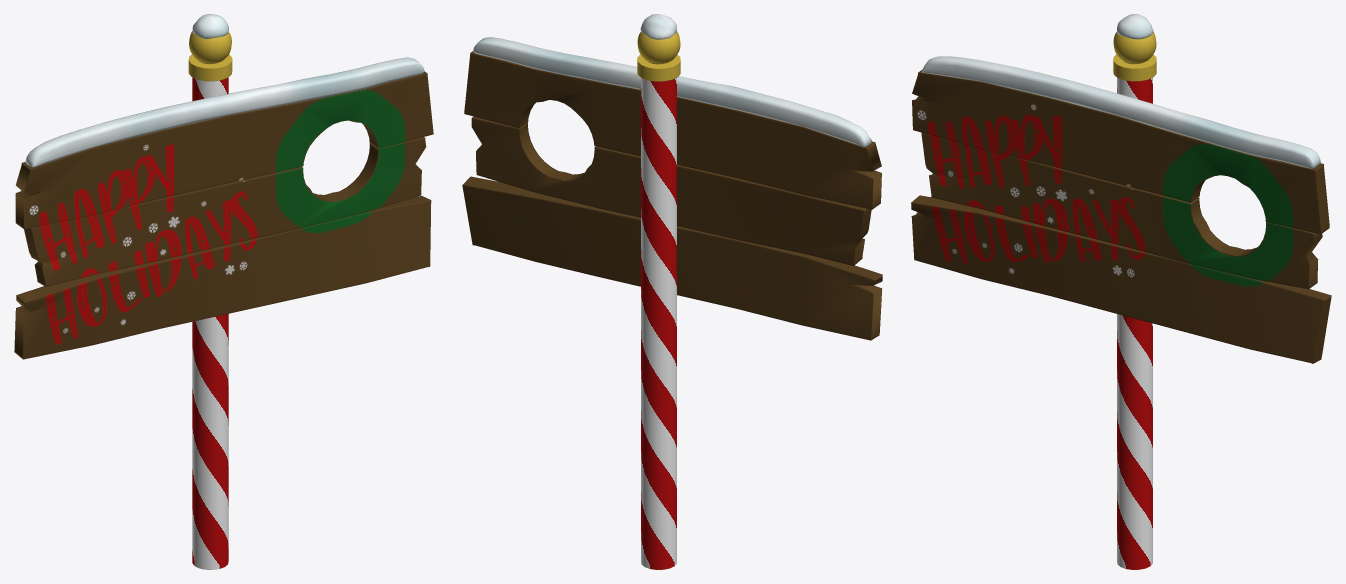
Rendered from sign.glb.
The picture shows the model from 3 angles, left to right: view 1: azimuth 30°, elevation 25°; view 2: azimuth 150°, elevation 25°; view 3: azimuth 330°, elevation 25°; orthographic projection.
Visible parts, largest first — view 1: board3, board1, board2, signPost, snowSign, signTopper, snowTopper; view 2: board3, board1, board2, signPost, snowSign, signTopper, snowTopper; view 3: board3, board1, board2, signPost, snowSign, signTopper, snowTopper.
Part boxes in pixels (x1=…): board3: x1=14, y1=196, x2=431, y2=359; board1: x1=15, y1=71, x2=433, y2=229; board2: x1=24, y1=137, x2=426, y2=286; signPost: x1=192, y1=77, x2=228, y2=569; snowSign: x1=25, y1=57, x2=424, y2=167; signTopper: x1=188, y1=31, x2=232, y2=81; snowTopper: x1=192, y1=14, x2=228, y2=38; board3: x1=462, y1=176, x2=882, y2=340; board1: x1=464, y1=51, x2=881, y2=209; board2: x1=471, y1=116, x2=871, y2=265; signPost: x1=641, y1=78, x2=676, y2=569; snowSign: x1=473, y1=37, x2=872, y2=146; signTopper: x1=637, y1=31, x2=680, y2=81; snowTopper: x1=640, y1=14, x2=676, y2=39; board3: x1=911, y1=195, x2=1331, y2=363; board1: x1=912, y1=69, x2=1329, y2=234; board2: x1=921, y1=132, x2=1322, y2=289; signPost: x1=1117, y1=77, x2=1152, y2=569; snowSign: x1=921, y1=56, x2=1320, y2=168; signTopper: x1=1113, y1=32, x2=1156, y2=81; snowTopper: x1=1117, y1=14, x2=1153, y2=39.
Bounding box in the file's own units: 3.31 × 4.22 × 0.4447.
Materials: 1 (1 with a texture image).
